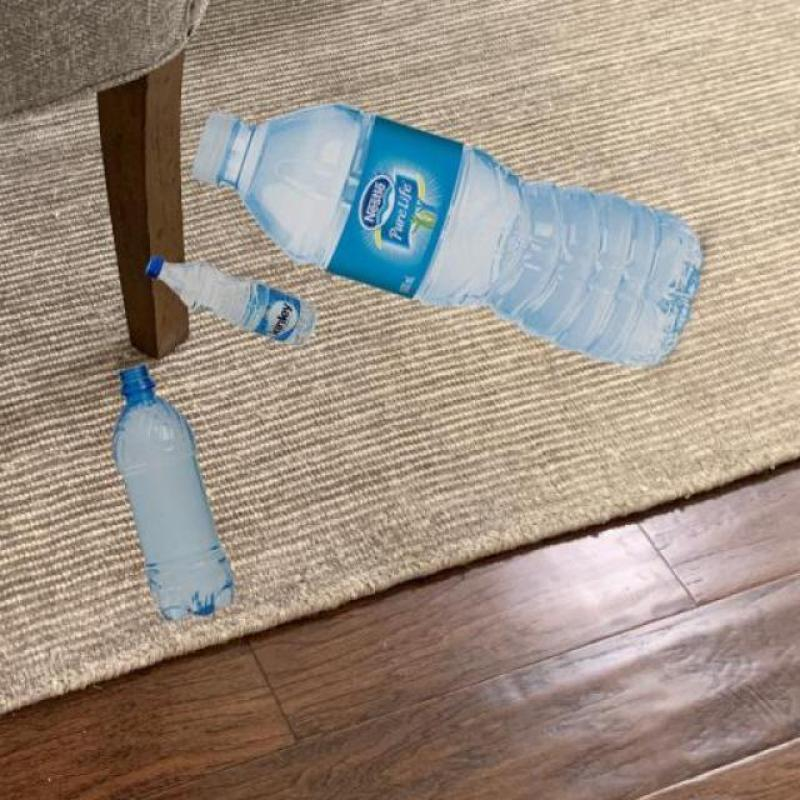botella: (188, 106, 707, 374), (112, 365, 236, 621), (146, 259, 318, 351)
